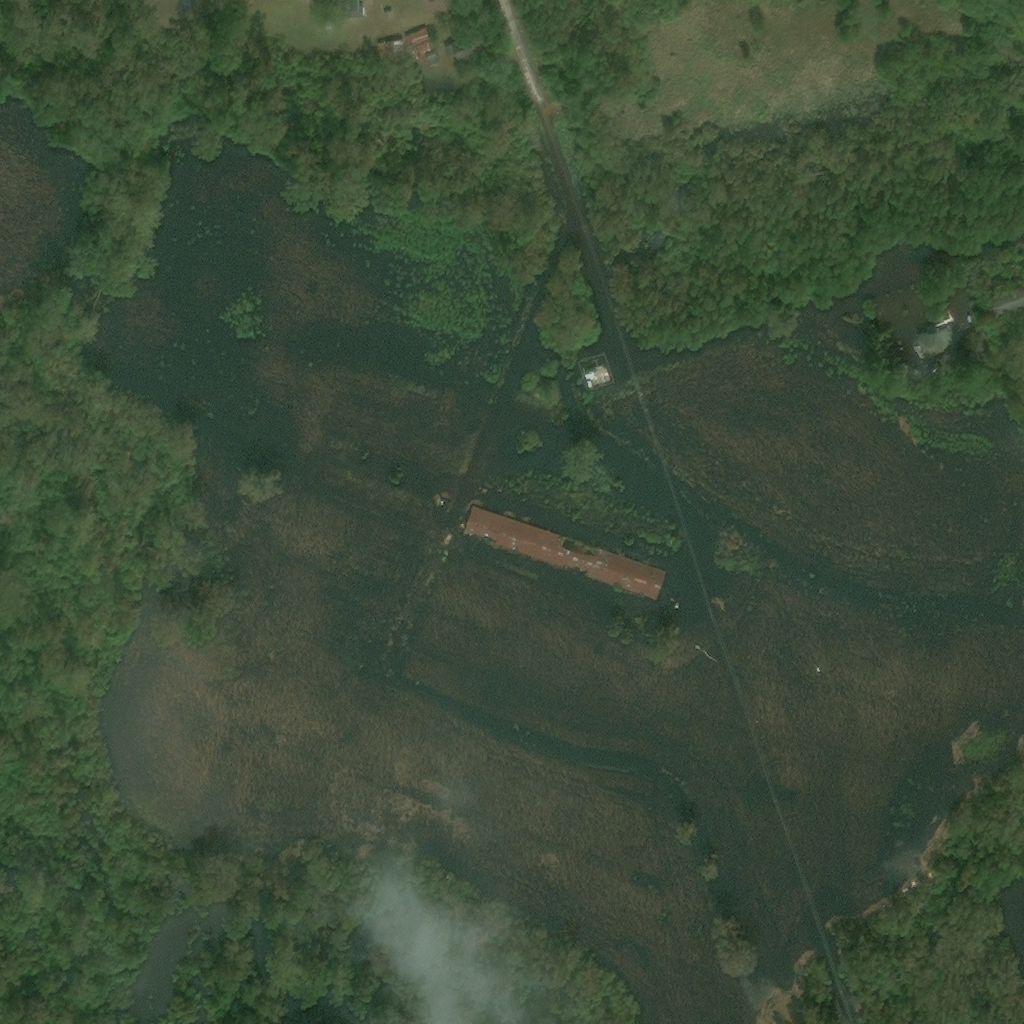major_damage: (462, 508, 668, 601), (579, 355, 616, 395), (915, 327, 955, 358), (990, 285, 1024, 315), (896, 364, 913, 379)
no_damage: (405, 28, 441, 69), (446, 32, 484, 63), (419, 0, 450, 18), (341, 2, 368, 20), (381, 41, 405, 59), (324, 21, 334, 32), (385, 13, 395, 23)
